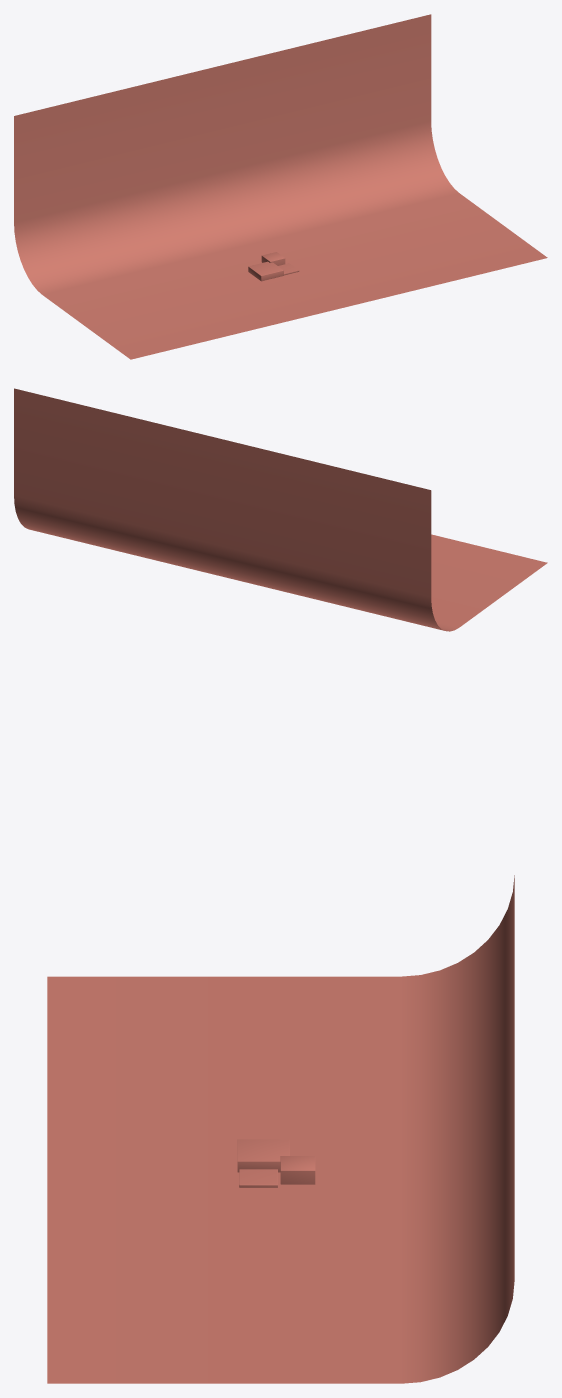
The model's file is scene without packs.FBX.
3 renders of one model, top to bottom at view 1: azimuth 30°, elevation 25°; view 2: azimuth 150°, elevation 25°; view 3: azimuth 270°, elevation 25°, orthographic. The views are drawn at different scales.
Parts seen in each view (by area): view 1: Floor, Cube.001; view 2: Floor; view 3: Floor, Cube.001, Cube.002.
Boxes of the visible parts, x1=… form: Floor: x1=14, y1=14, x2=547, y2=359; Cube.001: x1=248, y1=261, x2=283, y2=281; Floor: x1=14, y1=388, x2=547, y2=631; Floor: x1=47, y1=875, x2=514, y2=1383; Cube.001: x1=237, y1=1139, x2=289, y2=1172; Cube.002: x1=280, y1=1156, x2=315, y2=1184.
Size of the model in its own units: 4334 by 1570 by 2102.
